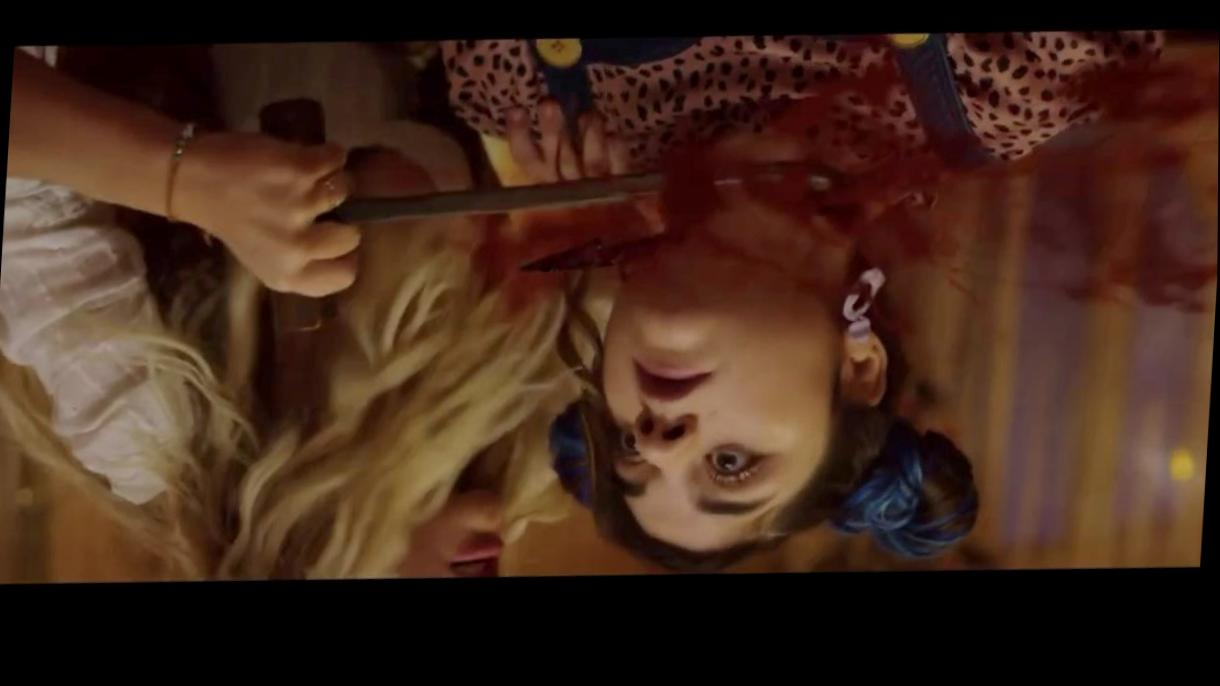Fire: (461, 47, 1219, 332)
